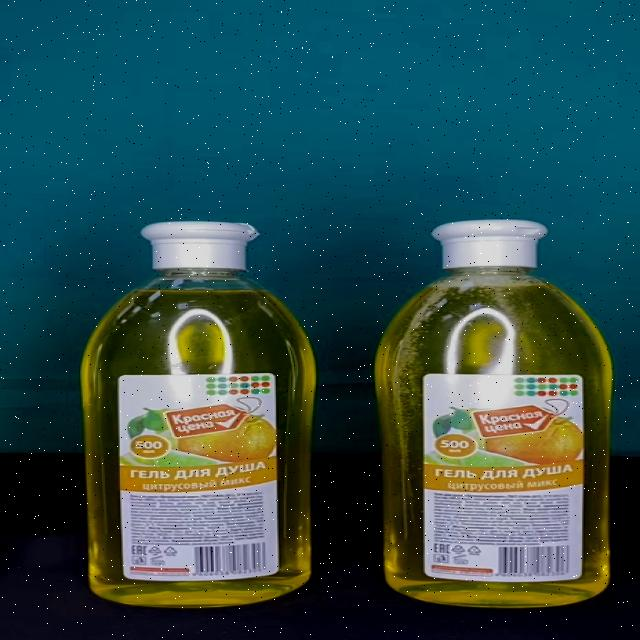Bottle: (373, 220, 613, 608), (81, 221, 317, 608)
Cap: (140, 222, 260, 270), (431, 221, 548, 269)
